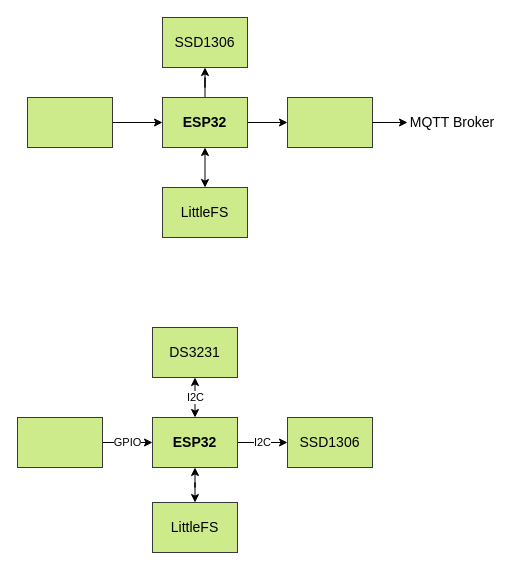
This 515x570 diagram has some shape labels left out. Each missing label, with the box of its shape:
DHT10: (26, 96, 112, 148)
DHT22: (16, 416, 102, 468)
WiFi: (286, 96, 372, 148)
